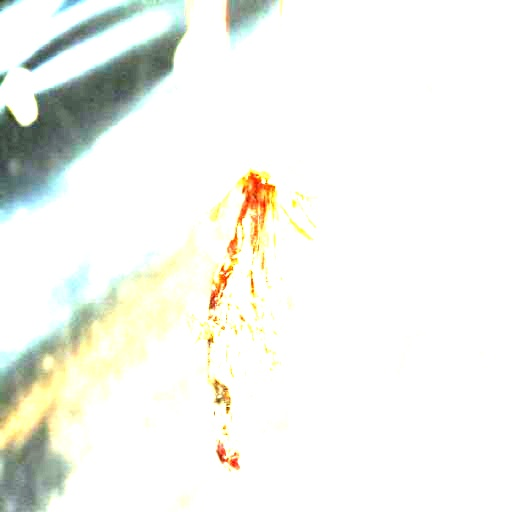Gray Mold: (186, 149, 349, 473)
